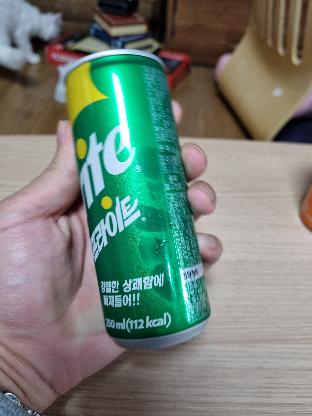Can: (61, 52, 217, 348)
